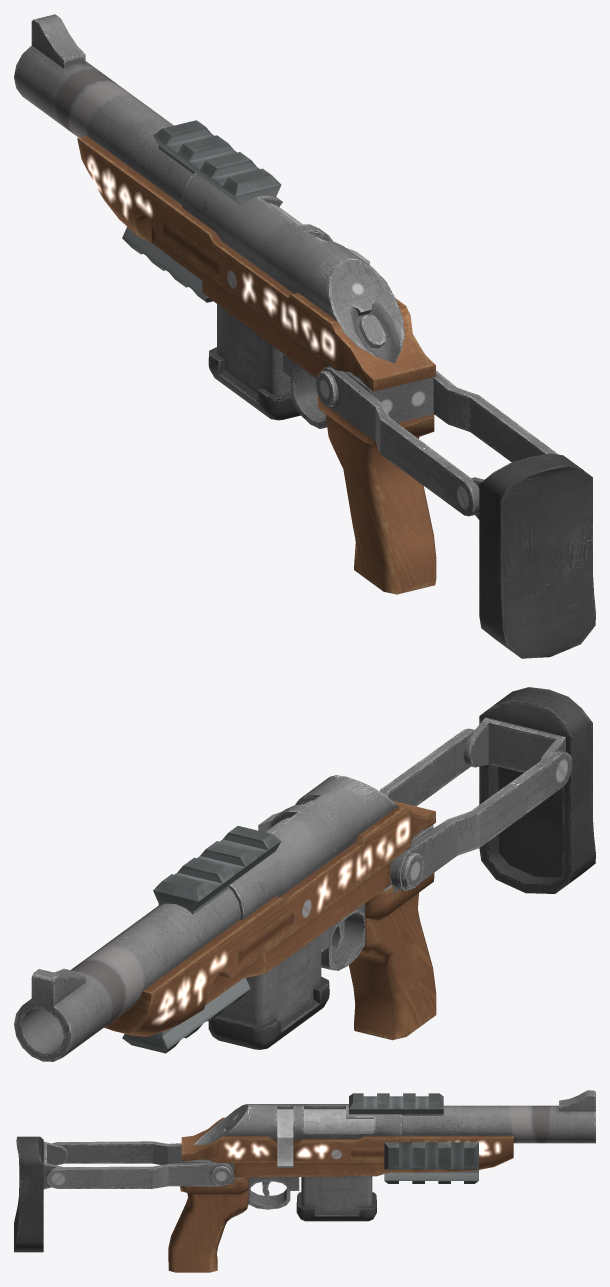
File: IG_Gun_TOZ106_Ghost.fbx
3 views of the same model, one above another, from view 1: azimuth 30°, elevation 25°; view 2: azimuth 150°, elevation 25°; view 3: azimuth 270°, elevation 25° (orthographic). The views are drawn at different scales.
Parts seen in each view (by area): view 1: Pfb_WPN_TOZ106_Holy, ShowIf_Scope, ShowIf_Grip; view 2: Pfb_WPN_TOZ106_Holy, ShowIf_Scope, ShowIf_Grip; view 3: Pfb_WPN_TOZ106_Holy, ShowIf_Tec, ShowIf_Scope, ShowIf_Grip.
Boxes of the visible parts, x1,y1,x2,y2 form: Pfb_WPN_TOZ106_Holy: (14,14,595,658); ShowIf_Scope: (153,120,281,205); ShowIf_Grip: (122,226,212,302); Pfb_WPN_TOZ106_Holy: (14,687,595,1061); ShowIf_Scope: (153,826,281,914); ShowIf_Grip: (122,978,250,1053); Pfb_WPN_TOZ106_Holy: (14,1090,595,1272); ShowIf_Tec: (384,1142,478,1169); ShowIf_Scope: (349,1093,443,1115); ShowIf_Grip: (384,1170,478,1183).
Bounding box in the file's own units: 0.1238 × 0.335 × 1.03.
